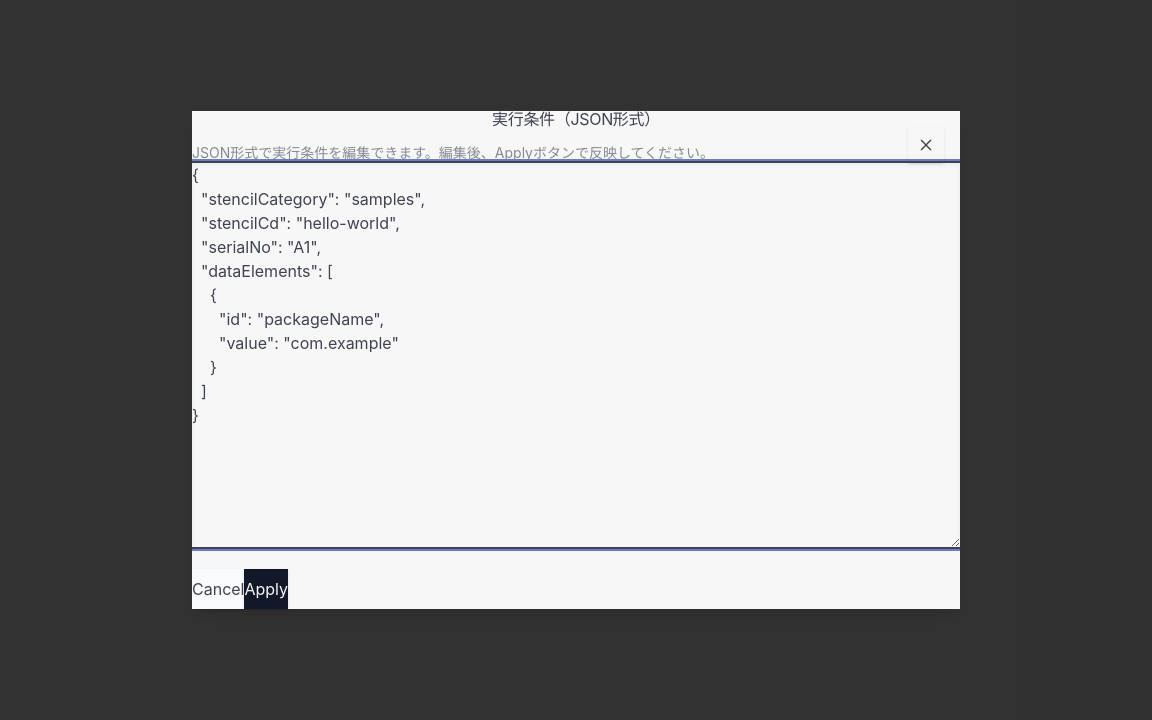
Test: JsonEditor toast handling › shows validation error toast for invalid JSON
Step 1. Replace the text in the text box with test id "json-textarea" with "invalid json" → (576, 355), box x1=192 y1=163 x2=960 y2=547
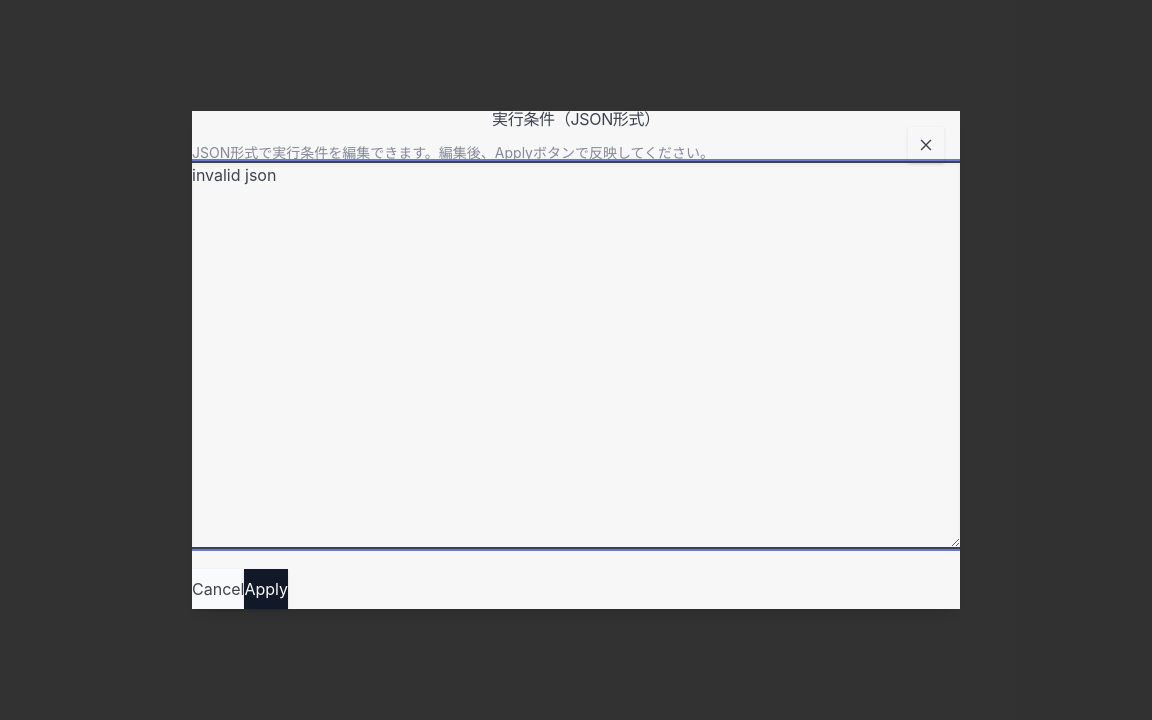
Step 2. Click the button with test id "json-apply-btn" → (266, 589), box x1=244 y1=569 x2=288 y2=609
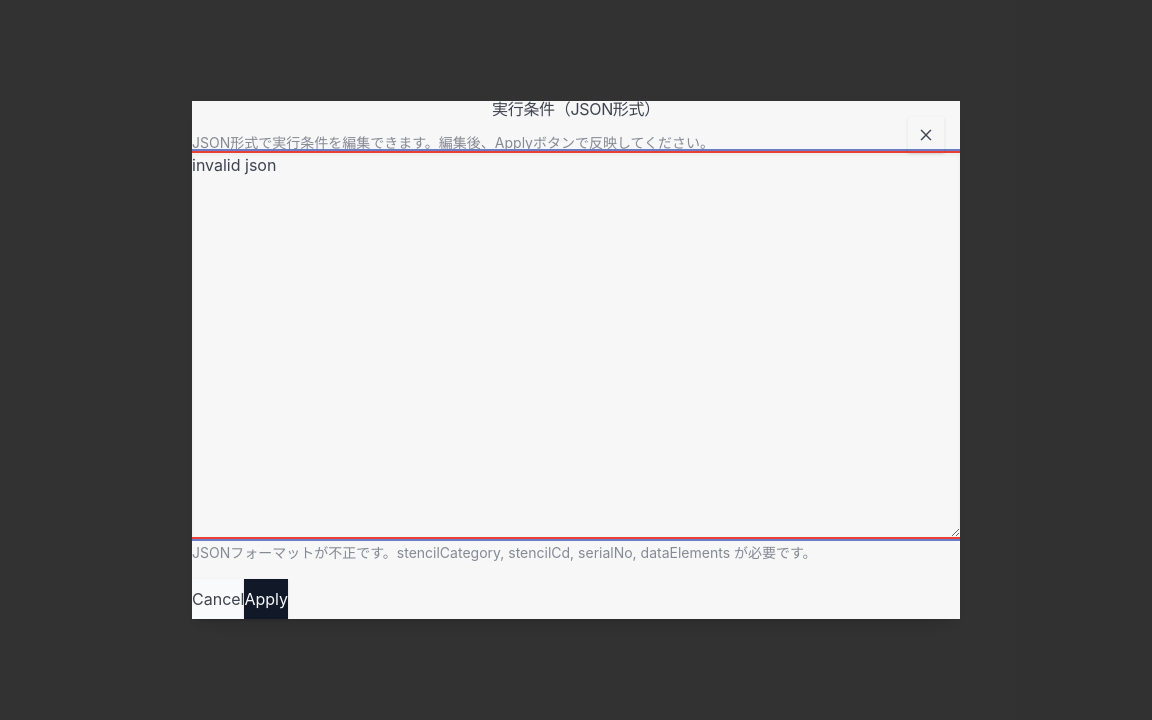
Check: the text with test id "json-error-message" shows "JSONフォーマットが不正です", box x1=192 y1=544 x2=817 y2=561
